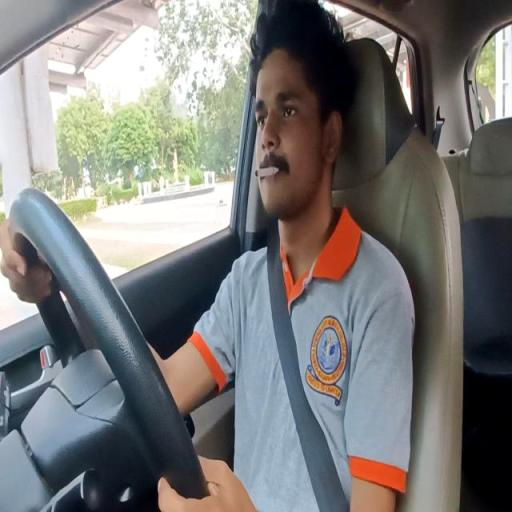Smoking: (118, 55, 420, 506)
